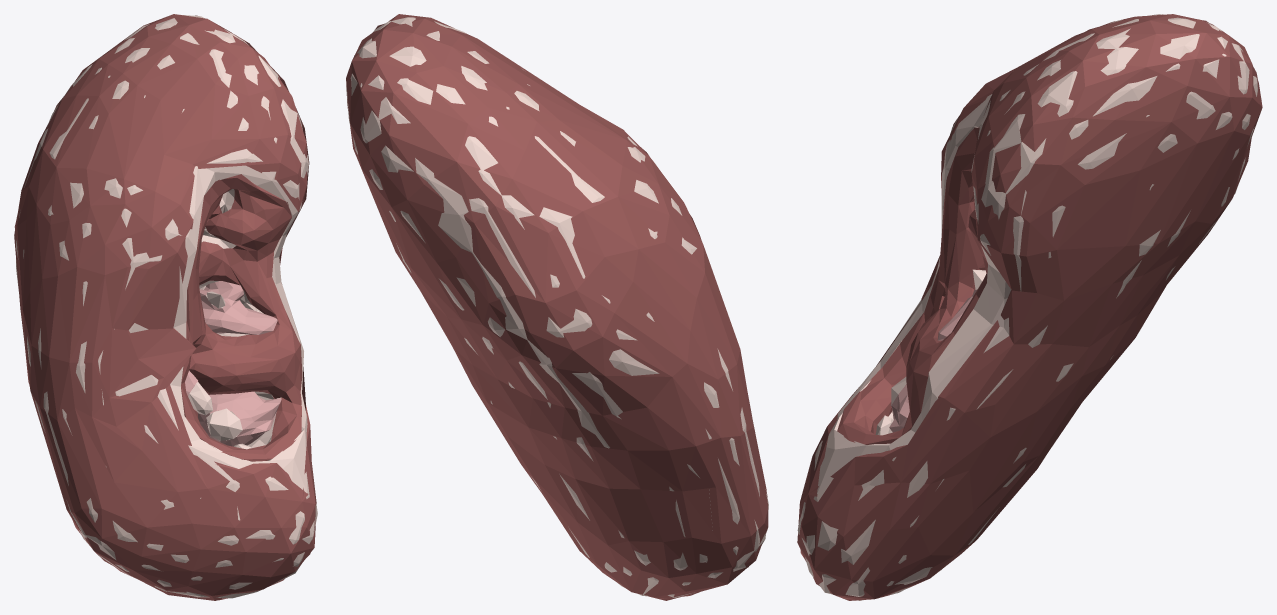
Rendered from VH_M_Kidney_R_0.1.glb.
The picture shows the model from 3 angles, left to right: view 1: azimuth 30°, elevation 25°; view 2: azimuth 150°, elevation 25°; view 3: azimuth 270°, elevation 25°; orthographic projection. The views are drawn at different scales.
Visible parts, largest first — view 1: VH_M_kidney_capsule_R, VH_M_hilum_of_kidney_R, VH_M_outer_cortex_of_kidney_R, VH_M_renal_pyramid_f, VH_M_renal_pyramid_h, VH_M_renal_column_R, VH_M_renal_papilla_R_h, VH_M_renal_papilla_R_g; view 2: VH_M_kidney_capsule_R, VH_M_outer_cortex_of_kidney_R; view 3: VH_M_kidney_capsule_R, VH_M_outer_cortex_of_kidney_R, VH_M_hilum_of_kidney_R, VH_M_renal_pyramid_h.
Part boxes in pixels (x1,y1,x2,y2): VH_M_kidney_capsule_R: (14,14,316,600); VH_M_hilum_of_kidney_R: (181,174,302,461); VH_M_outer_cortex_of_kidney_R: (16,14,317,598); VH_M_renal_pyramid_f: (199,280,277,334); VH_M_renal_pyramid_h: (198,391,281,446); VH_M_renal_column_R: (199,189,275,448); VH_M_renal_papilla_R_h: (206,408,242,440); VH_M_renal_papilla_R_g: (188,382,212,415); VH_M_kidney_capsule_R: (346,14,768,600); VH_M_outer_cortex_of_kidney_R: (346,17,768,597); VH_M_kidney_capsule_R: (797,14,1262,600); VH_M_outer_cortex_of_kidney_R: (797,14,1257,600); VH_M_hilum_of_kidney_R: (837,127,987,444); VH_M_renal_pyramid_h: (889,384,909,432).
Bounding box in the file's own units: 0.0658 × 0.1129 × 0.077.
